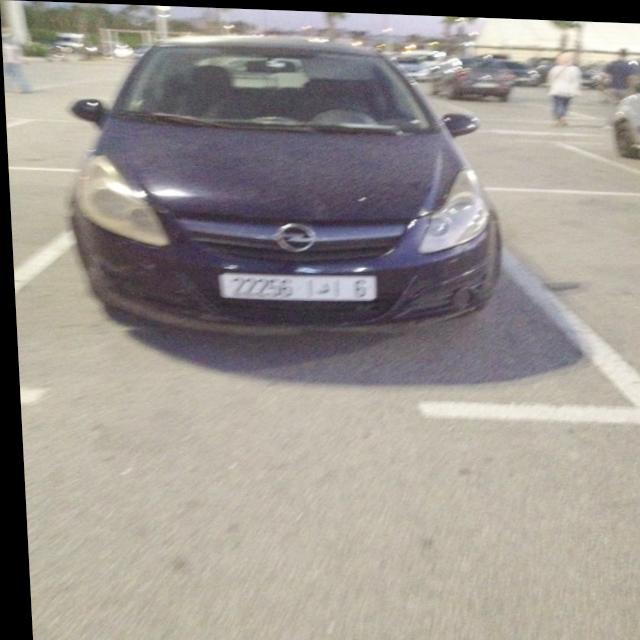License-Plate: (216, 271, 374, 298)
